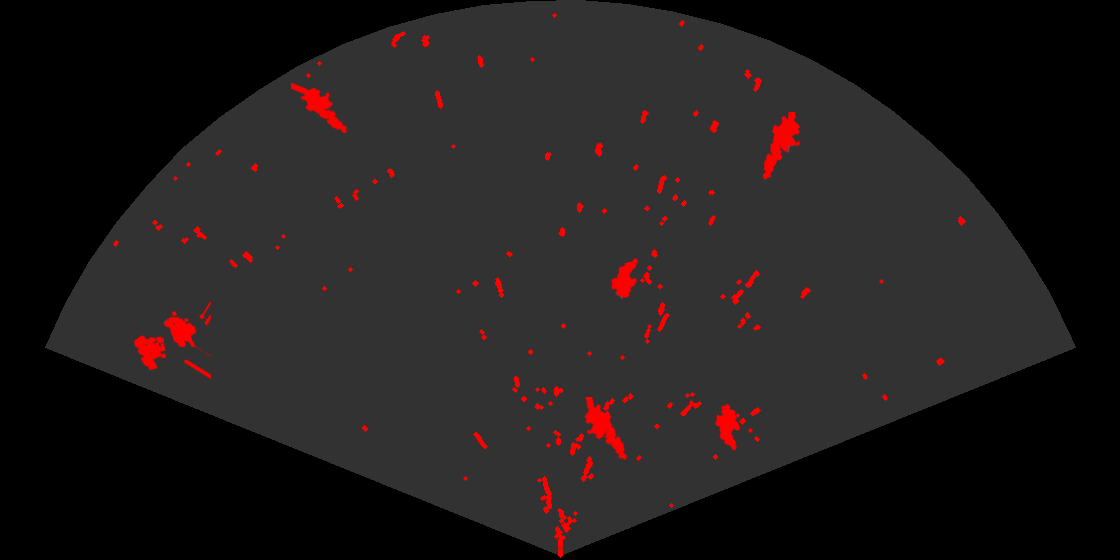AUV: (714, 402, 742, 452), (610, 257, 640, 300)
cage: (133, 300, 211, 380)
frogman: (291, 81, 349, 135), (583, 397, 629, 462), (761, 112, 802, 181)
